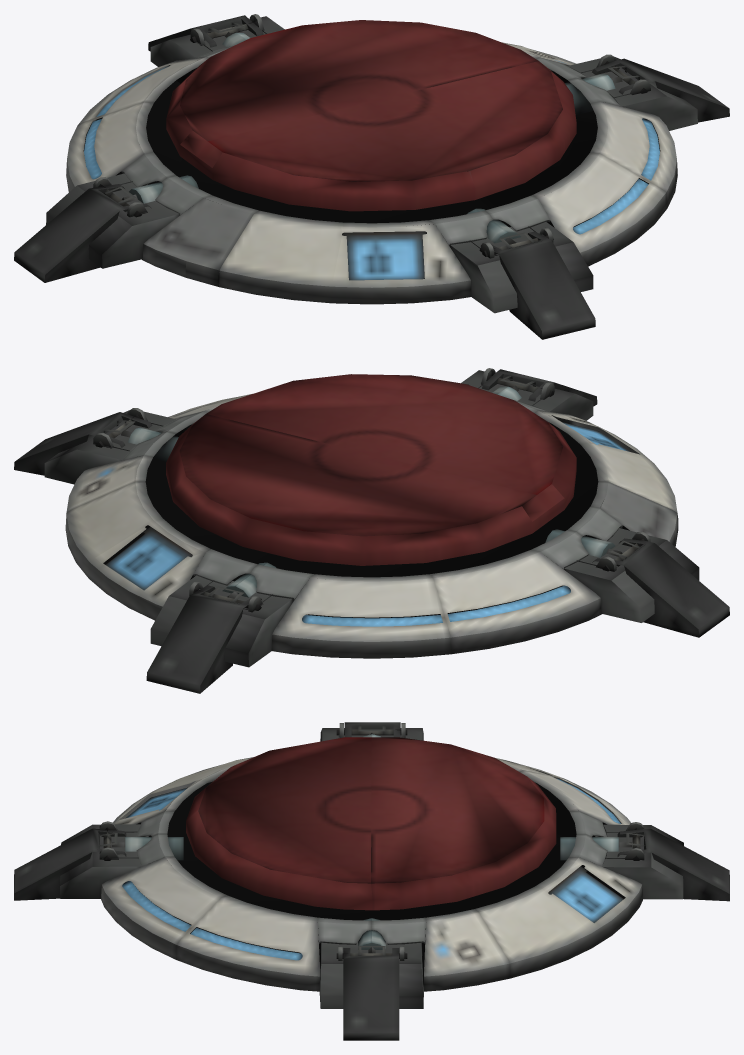
The model's file is button.fbx.
3 renders of one model, top to bottom at view 1: azimuth 30°, elevation 25°; view 2: azimuth 150°, elevation 25°; view 3: azimuth 270°, elevation 25°, orthographic. The views are drawn at different scales.
Visible parts, largest first — view 1: portal_button.055, portal_button.711; view 2: portal_button.055, portal_button.711; view 3: portal_button.055, portal_button.711.
Part boxes in pixels (x1,y1,x2,y2): portal_button.055: [14, 14, 729, 339]; portal_button.711: [166, 20, 576, 211]; portal_button.055: [14, 368, 729, 693]; portal_button.711: [166, 374, 576, 565]; portal_button.055: [14, 722, 729, 1040]; portal_button.711: [186, 737, 556, 910].
Size of the model in its own units: 12225 by 1492 by 12225.
